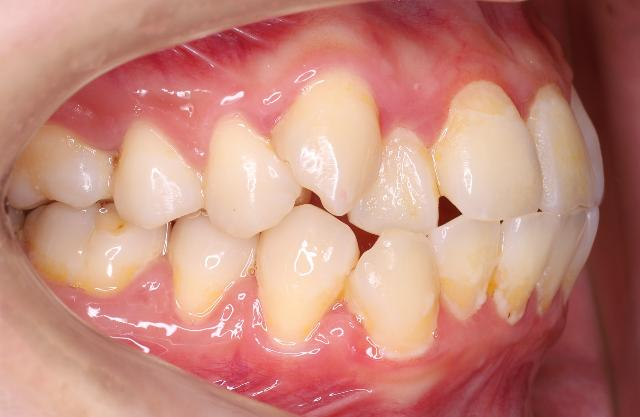canine class III 1/4: (254, 62, 442, 368)
molar class III 1/4: (12, 122, 166, 300)
